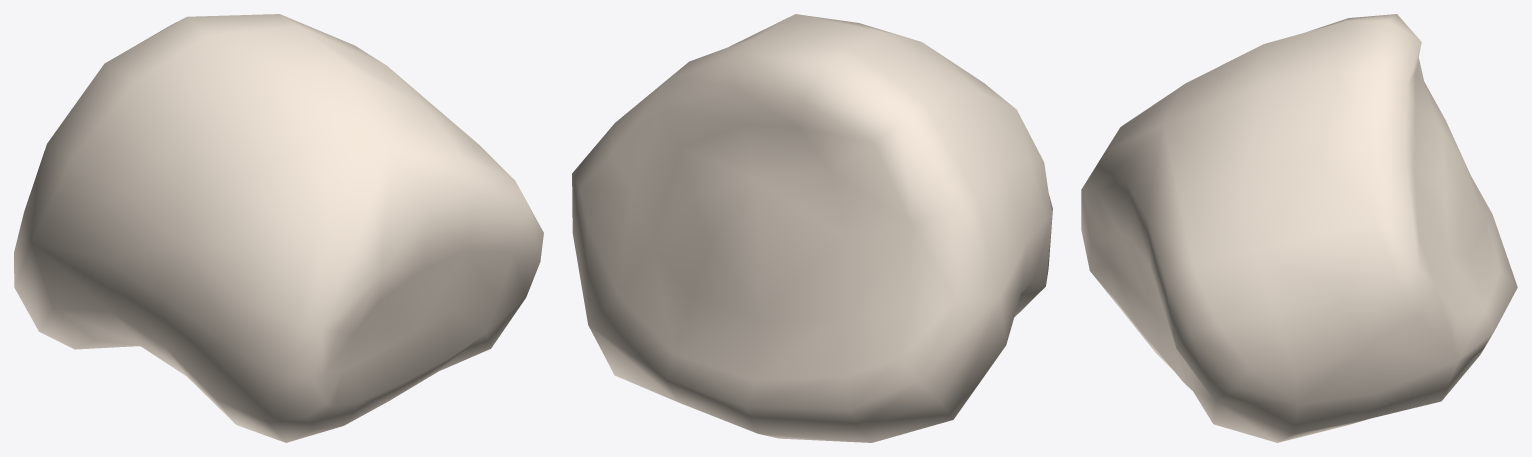
The model's file is left_toe_5_middle.glb.
The picture shows the model from 3 angles, left to right: view 1: azimuth 30°, elevation 25°; view 2: azimuth 150°, elevation 25°; view 3: azimuth 270°, elevation 25°; orthographic projection. The views are drawn at different scales.
Parts seen in each view (by area): view 1: Middle phalanx of fifth finger of foot.r; view 2: Middle phalanx of fifth finger of foot.r; view 3: Middle phalanx of fifth finger of foot.r.
Part boxes in pixels (x1,y1,x2,y2): Middle phalanx of fifth finger of foot.r: (14, 14, 543, 442); Middle phalanx of fifth finger of foot.r: (572, 14, 1052, 442); Middle phalanx of fifth finger of foot.r: (1081, 14, 1517, 442).
Size of the model in its own units: 0.00844 by 0.00646 by 0.00783.
